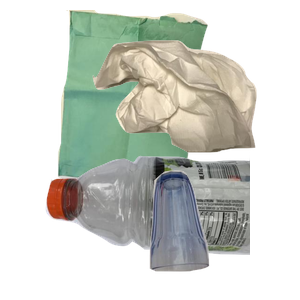glass: (147, 168, 300, 300)
paper: (55, 10, 255, 190)
plastic: (43, 152, 283, 300)
trash: (90, 38, 300, 183)
